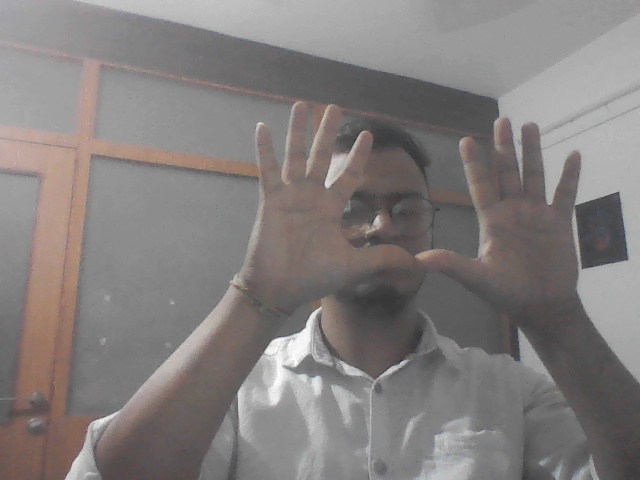Cheers: (240, 97, 591, 330)
